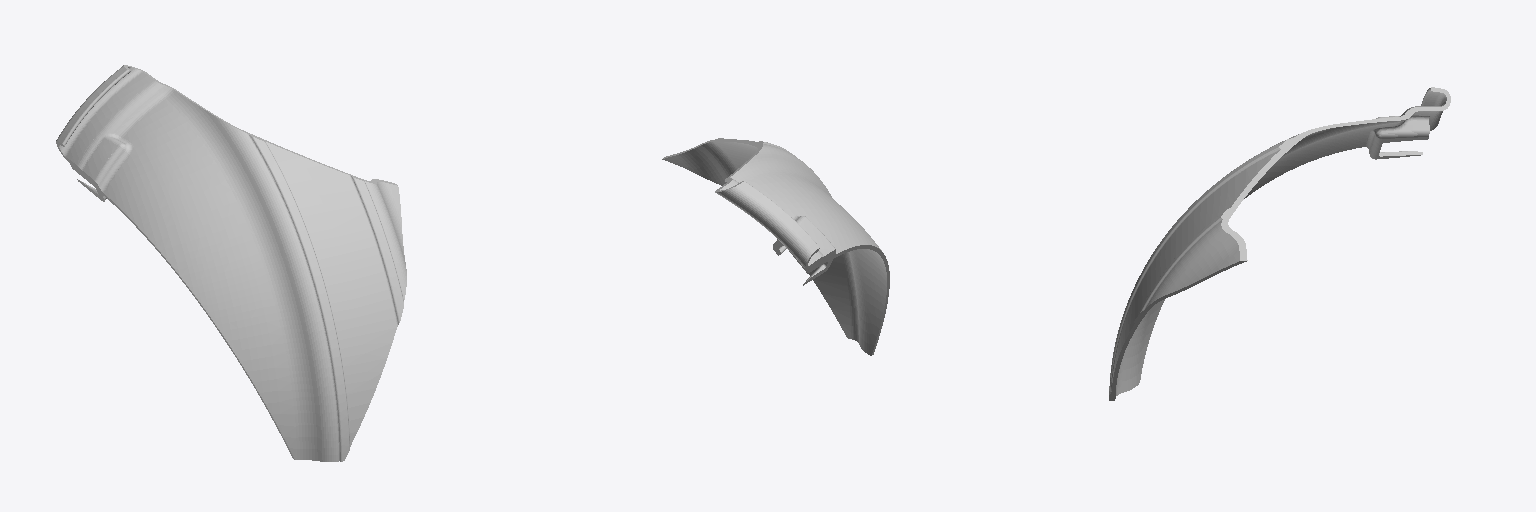
File: Body8.obj
3 renders of one model, left to right at view 1: azimuth 30°, elevation 25°; view 2: azimuth 150°, elevation 25°; view 3: azimuth 270°, elevation 25°, orthographic.
Parts seen in each view (by area): view 1: Body8; view 2: Body8; view 3: Body8.
Part boxes in pixels (x1,y1,x2,y2): Body8: (56,65,406,461); Body8: (662,138,889,355); Body8: (1109,87,1450,400).
Size of the model in its own units: 1.35 by 1.5 by 1.63.